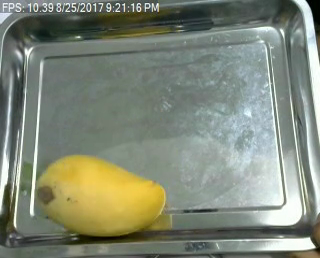Mango: (34, 153, 170, 236)
